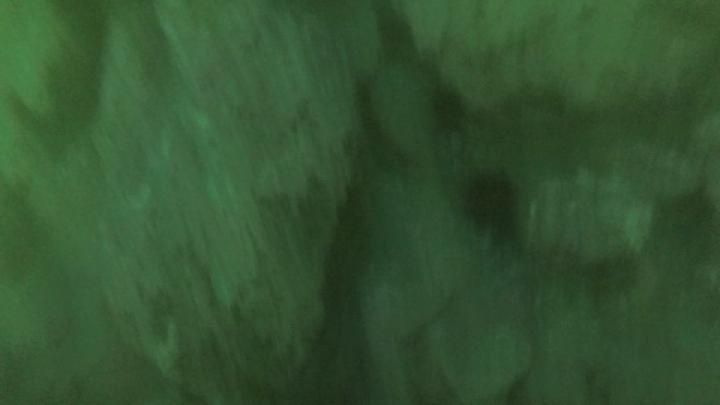echinus: (457, 166, 524, 241), (427, 84, 469, 134)
